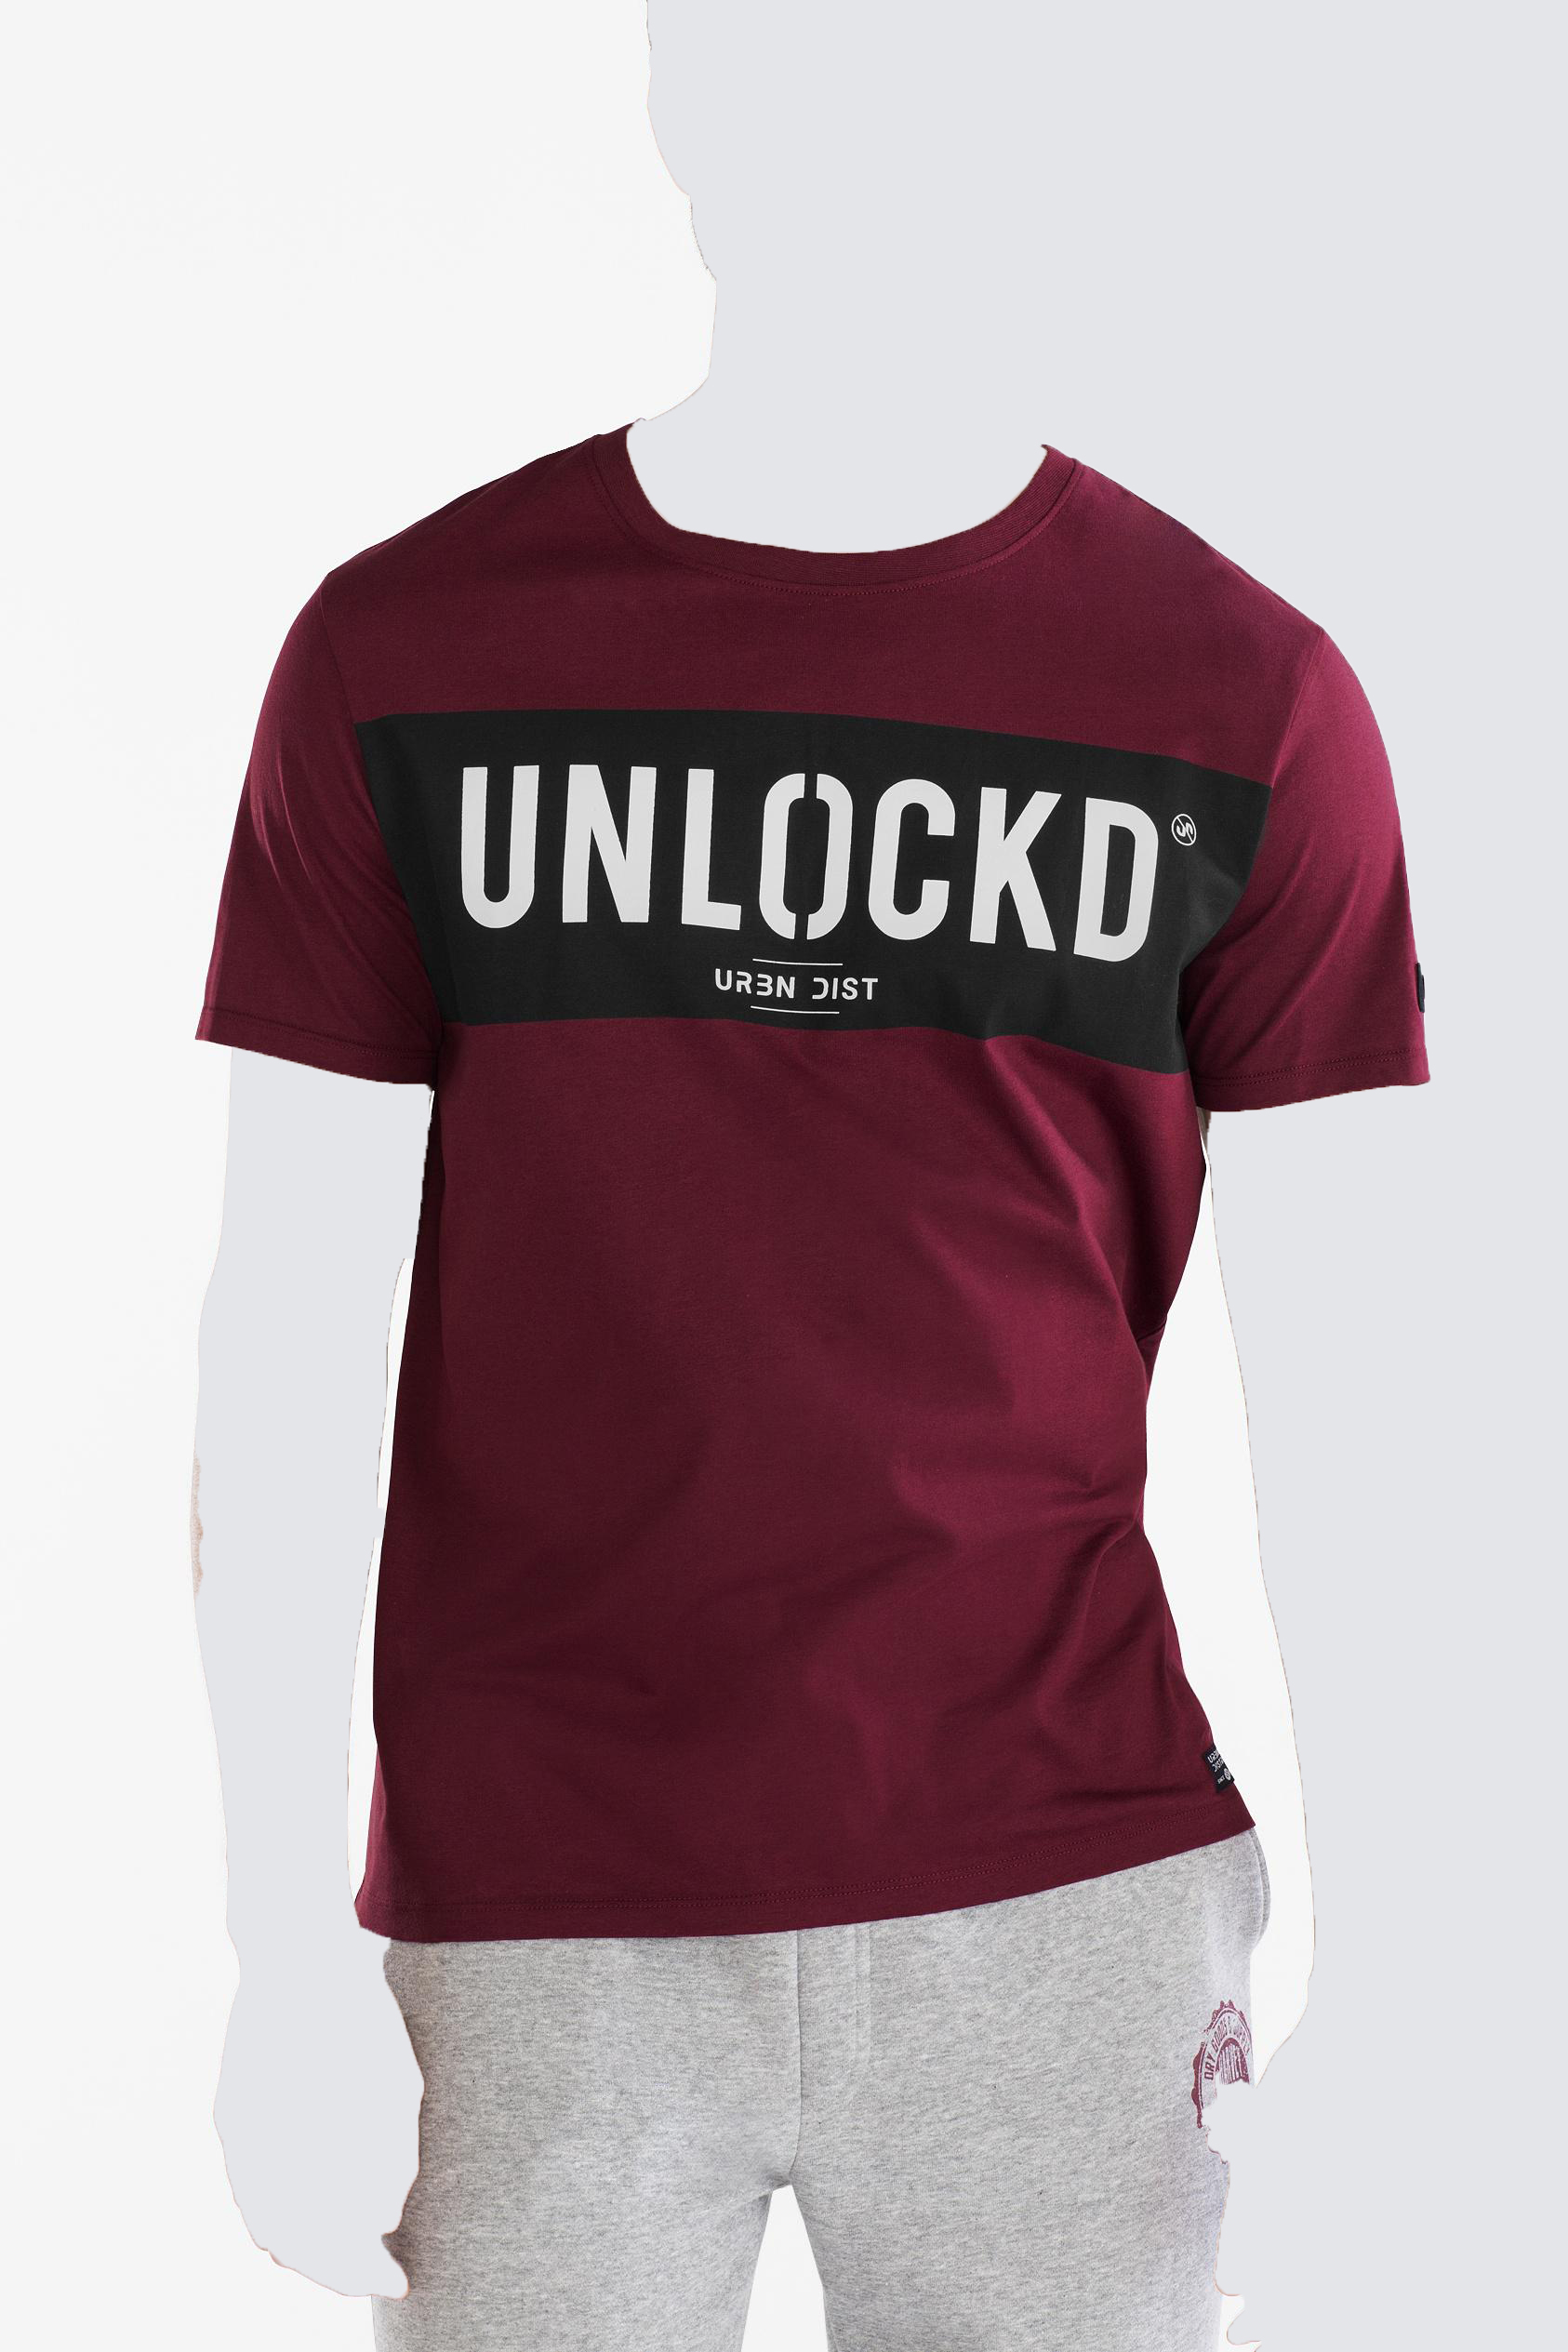teeshirt: (166, 399, 1440, 1944)
